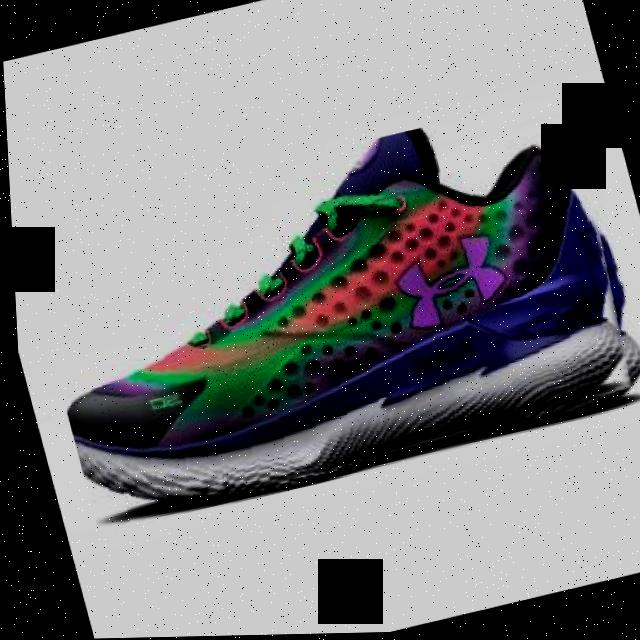shoe: (9, 93, 640, 532)
